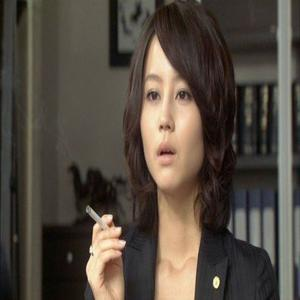cigarette: (84, 206, 120, 239)
